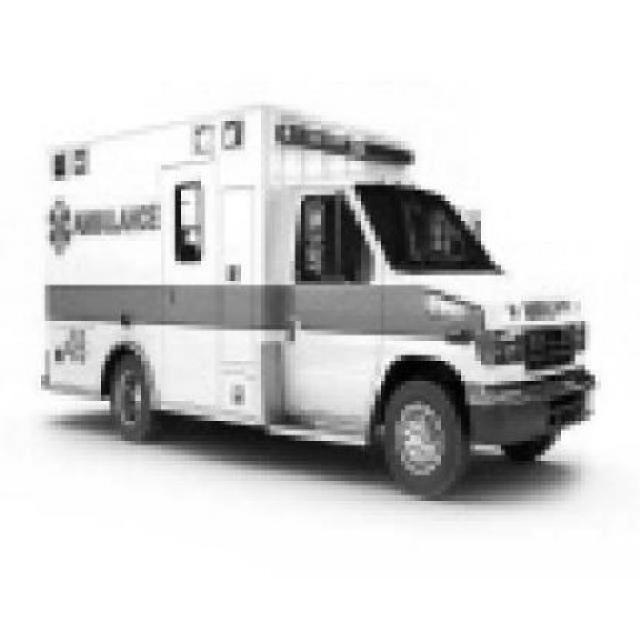Ambulance: (44, 107, 595, 498)
